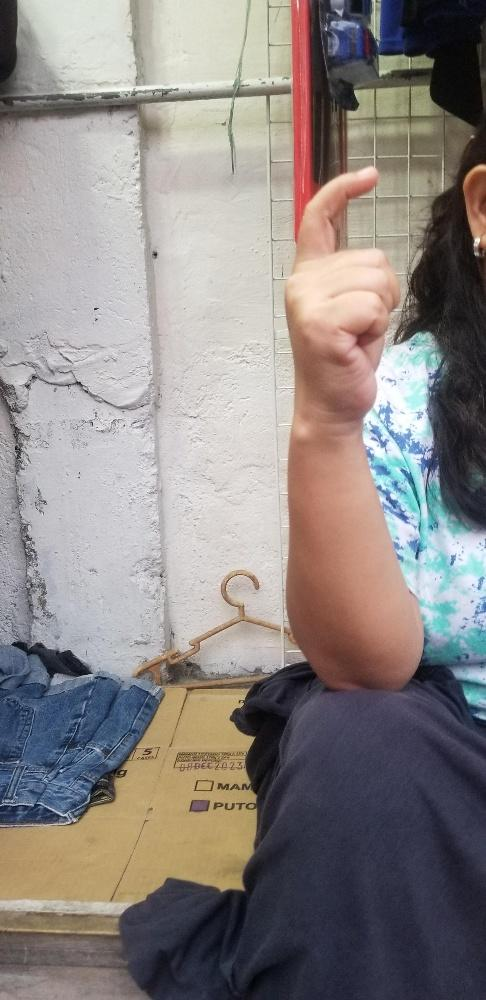x: (282, 165, 401, 415)
